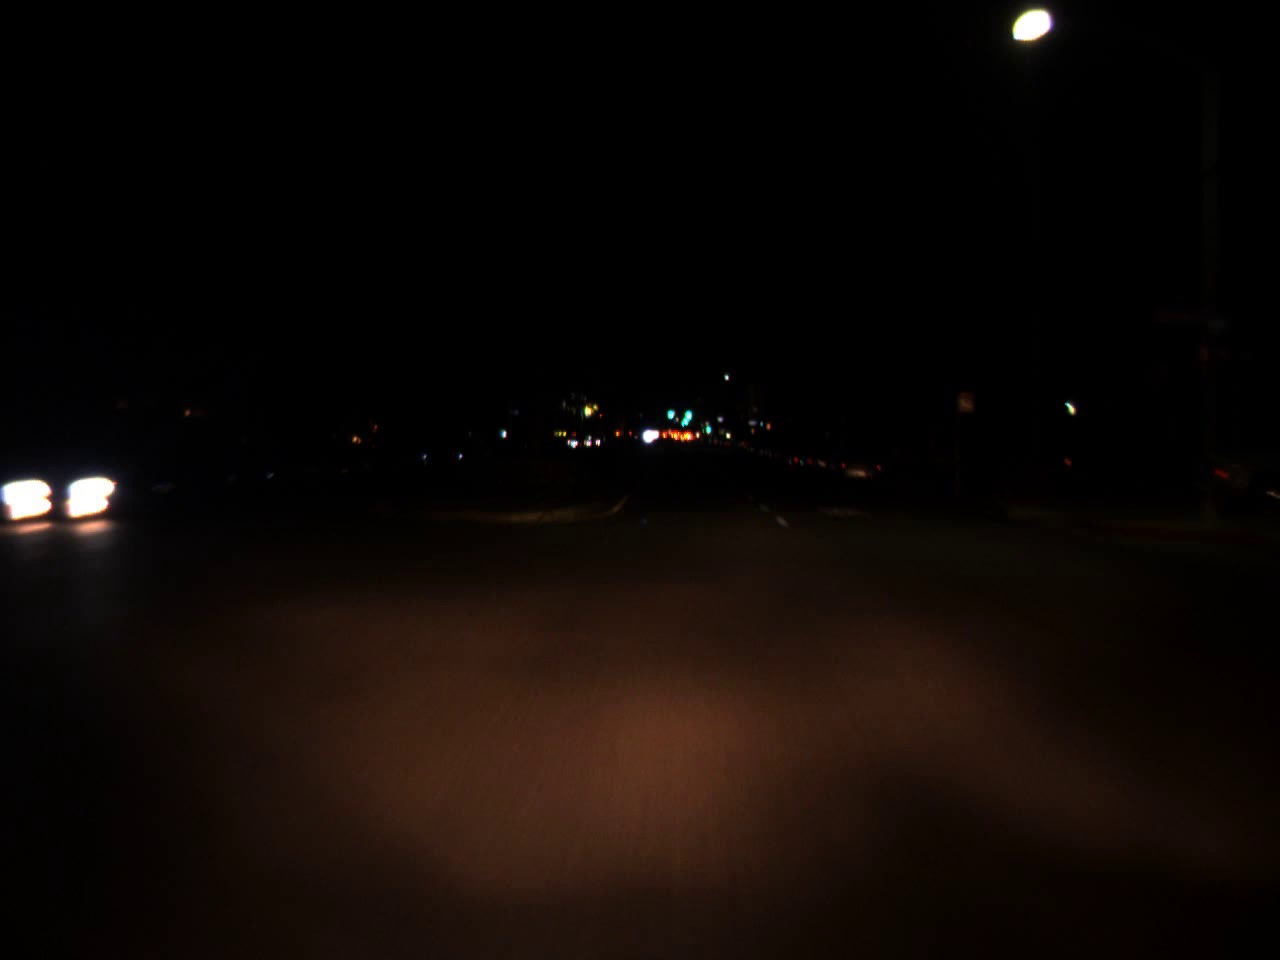go: (680, 398, 692, 419), (665, 402, 675, 419), (703, 419, 711, 434)
